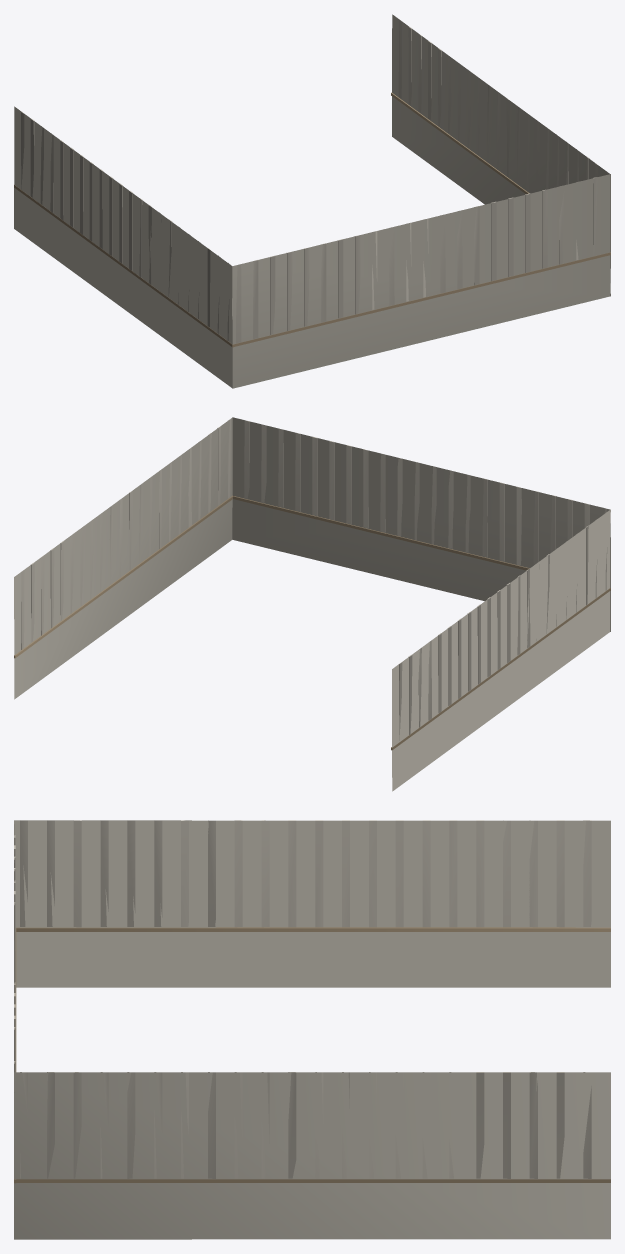
File: home_wallpaper_s1__cream_low.glb
3 views of the same model, one above another, from view 1: azimuth 30°, elevation 25°; view 2: azimuth 150°, elevation 25°; view 3: azimuth 270°, elevation 25° (orthographic). The views are drawn at different scales.
Size of the model in its own units: 8.9 by 2.75 by 8.9.
